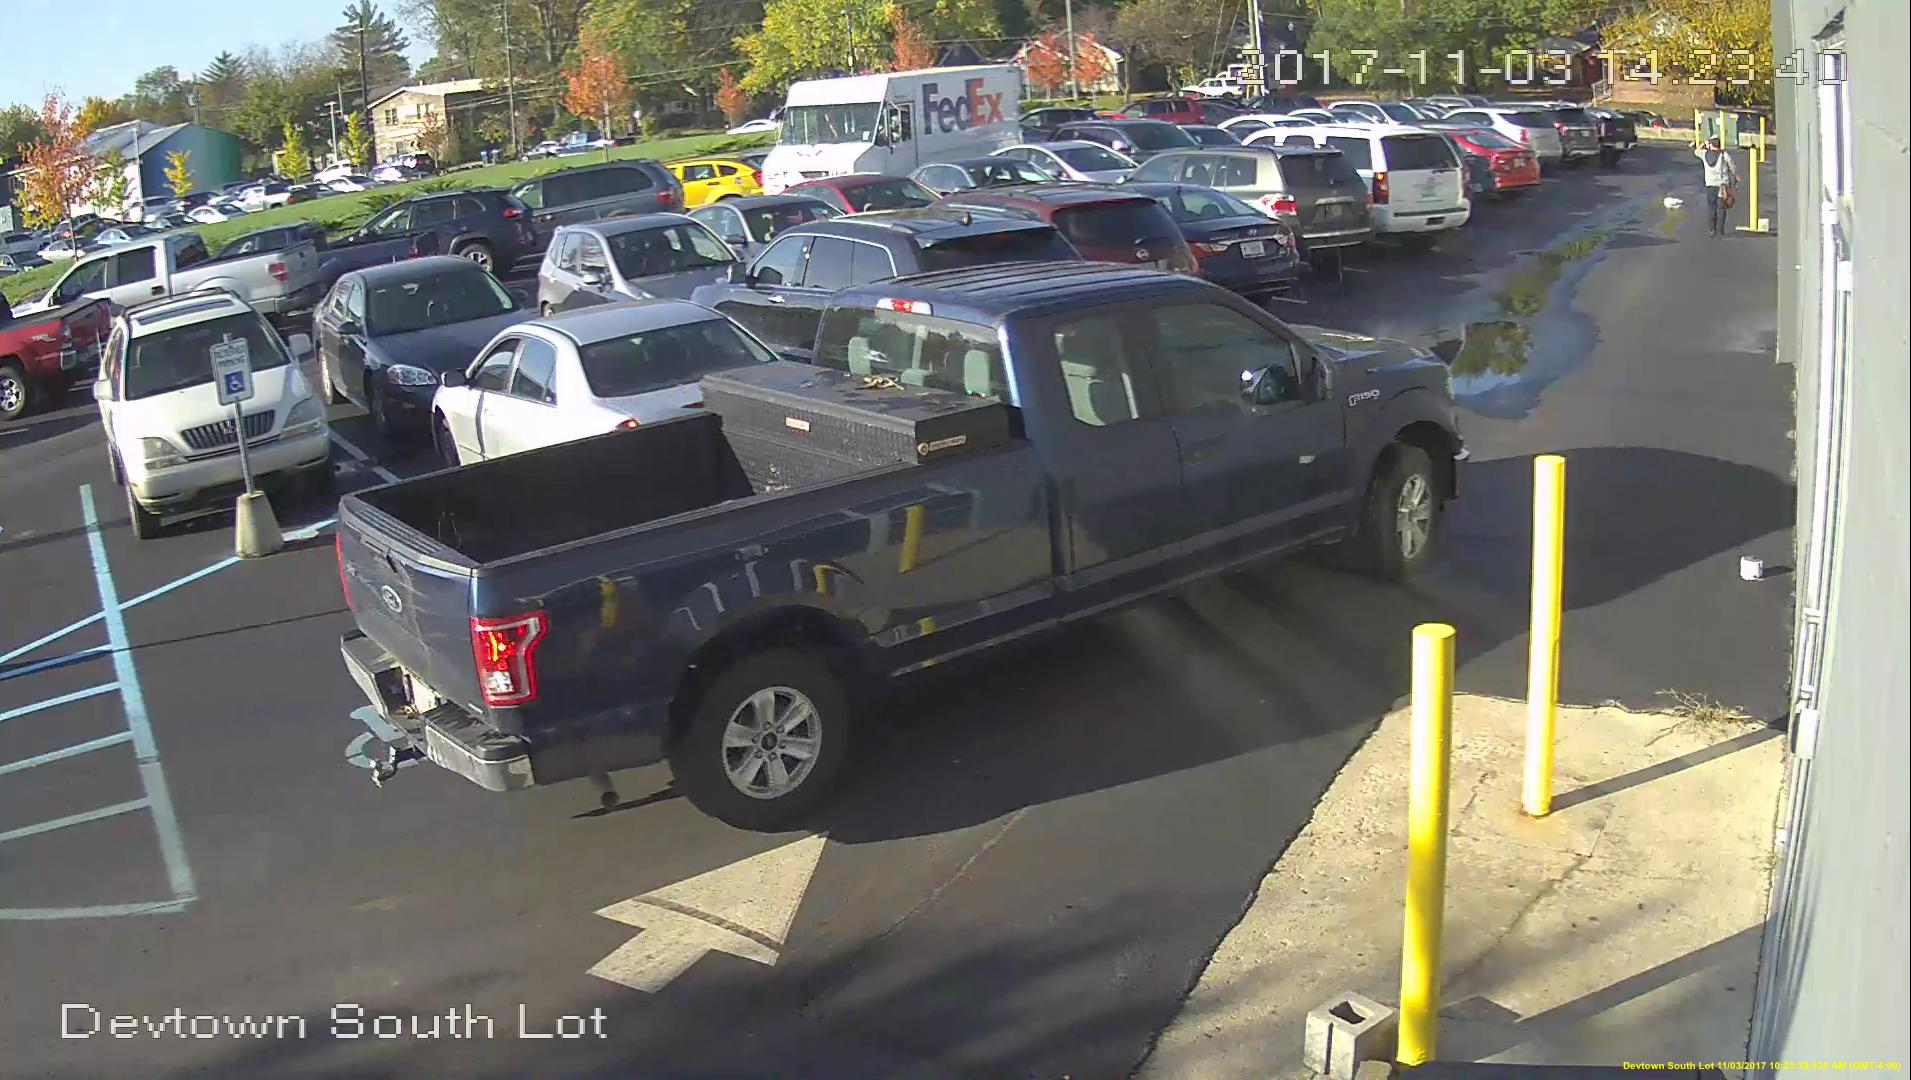fedex_truck: (757, 60, 1026, 188)
